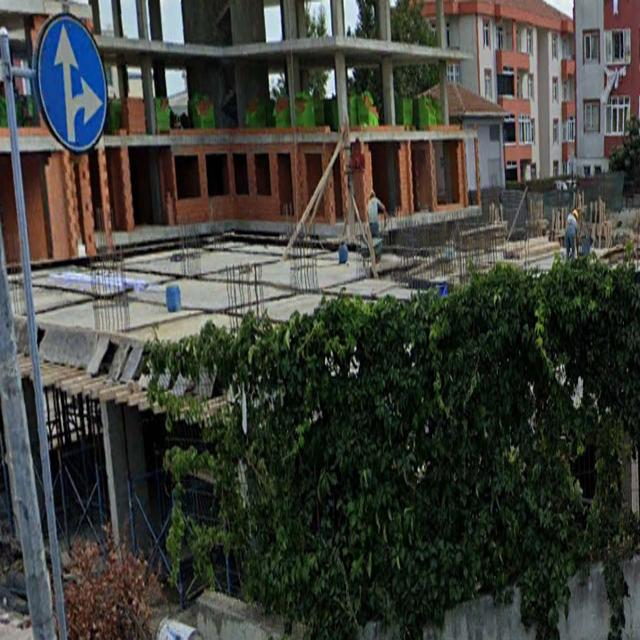ilerisag: (35, 15, 107, 153)
